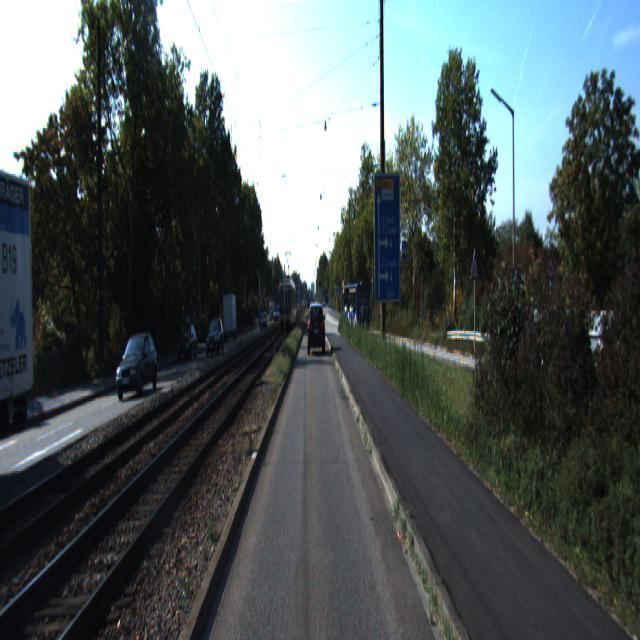Car: (114, 328, 160, 402), (342, 282, 370, 336), (177, 324, 198, 364), (308, 304, 324, 356), (205, 318, 225, 359), (222, 294, 237, 342)
